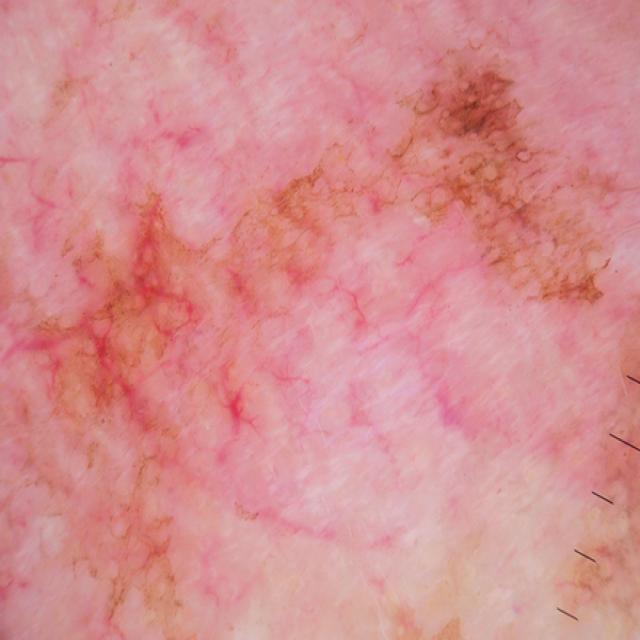Skin-Cancer Pigmented benign keratosis: (13, 16, 625, 634)
